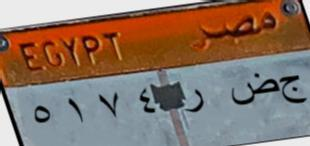1: (64, 93, 85, 131)
4: (136, 85, 155, 123)
5: (30, 100, 53, 127)
7: (95, 87, 122, 122)
daad: (227, 67, 278, 114)
jeem: (279, 72, 308, 109)
raa: (185, 86, 208, 119)
